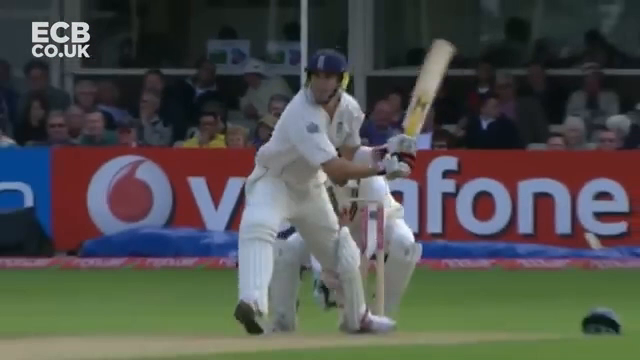batsman: (236, 48, 403, 338)
